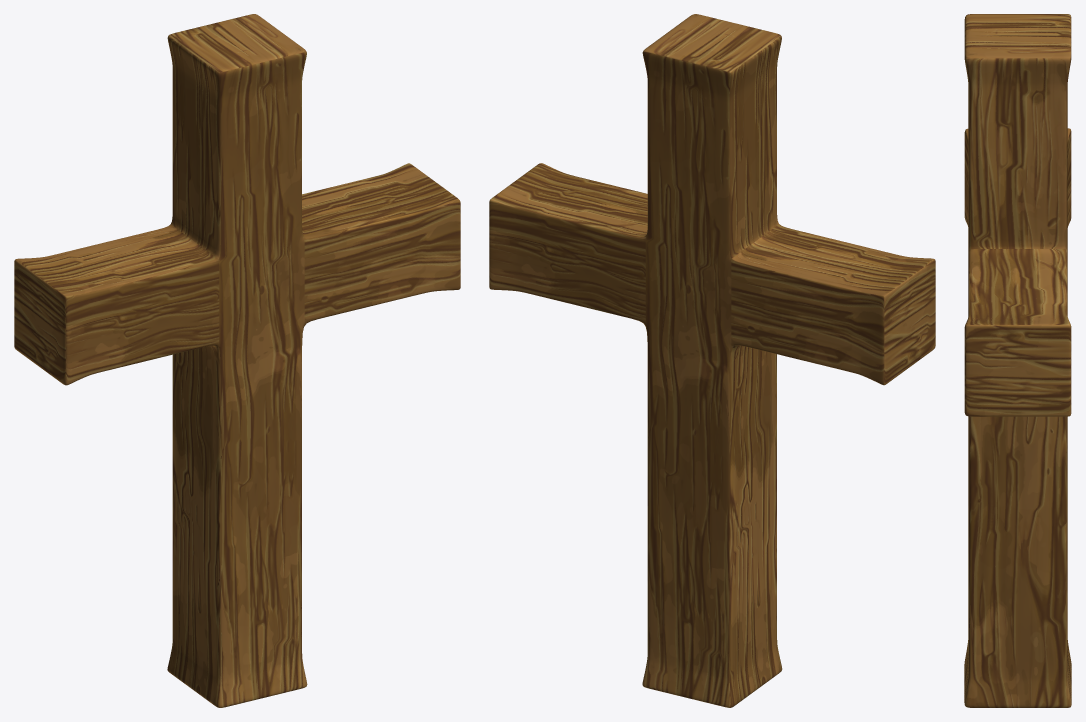
File: cross_export_selection.fbx
The picture shows the model from 3 angles, left to right: view 1: azimuth 30°, elevation 25°; view 2: azimuth 150°, elevation 25°; view 3: azimuth 270°, elevation 25°; orthographic projection. The views are drawn at different scales.
Parts seen in each view (by area): view 1: Cube.002; view 2: Cube.002; view 3: Cube.002.
Part boxes in pixels (box(x1,y1,x2,y2)): Cube.002: box(14, 14, 460, 707); Cube.002: box(489, 14, 935, 707); Cube.002: box(964, 14, 1071, 707).
Size of the model in its own units: 16.37 by 25.17 by 3.75.
1 material, 1 textured.
